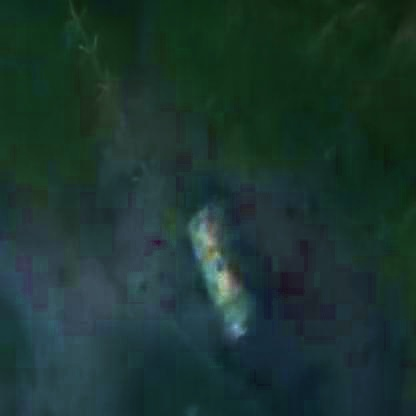can: (182, 185, 265, 359)
